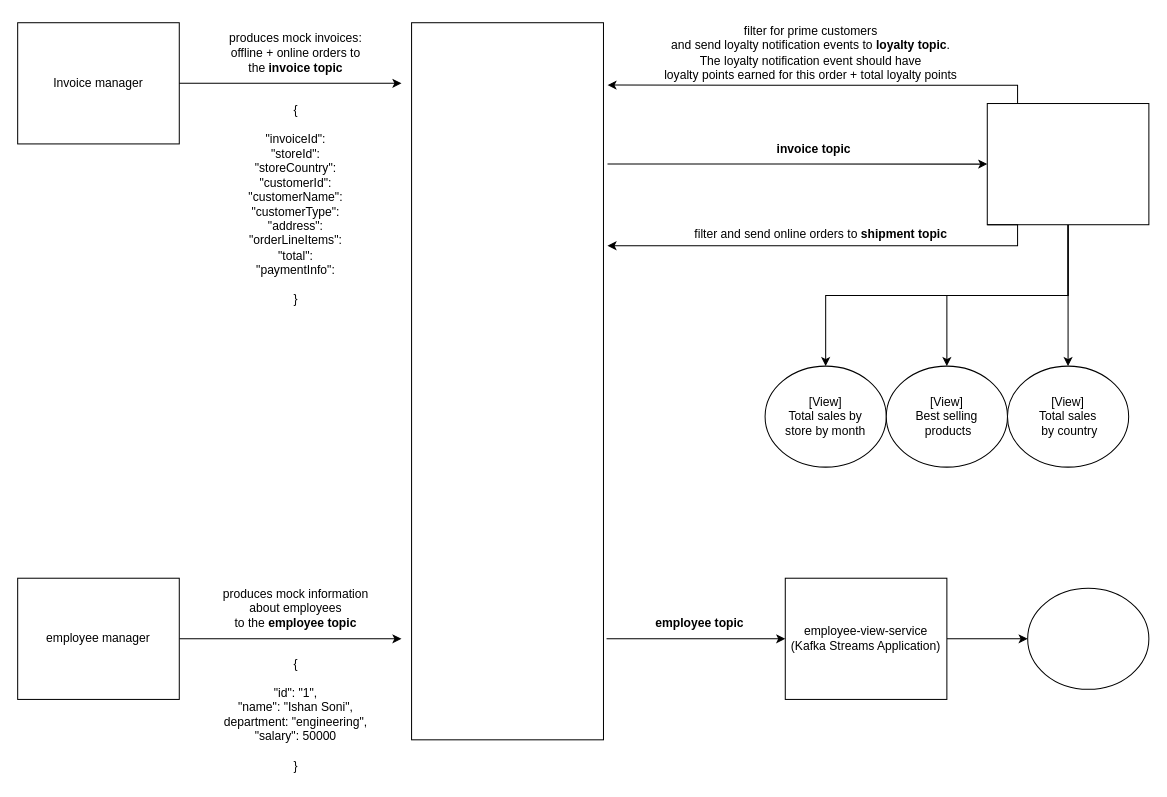
Image size: 1167x797. Some labels were removed from this diagram. Here are the shapes that lost their labels. From the top down, the box of each, then its label:
(986, 103, 1149, 225): invoice-fanout (Kafka Streams Application)
(411, 22, 603, 740): Kafka
(1027, 587, 1149, 689): [View] Average salary by department
